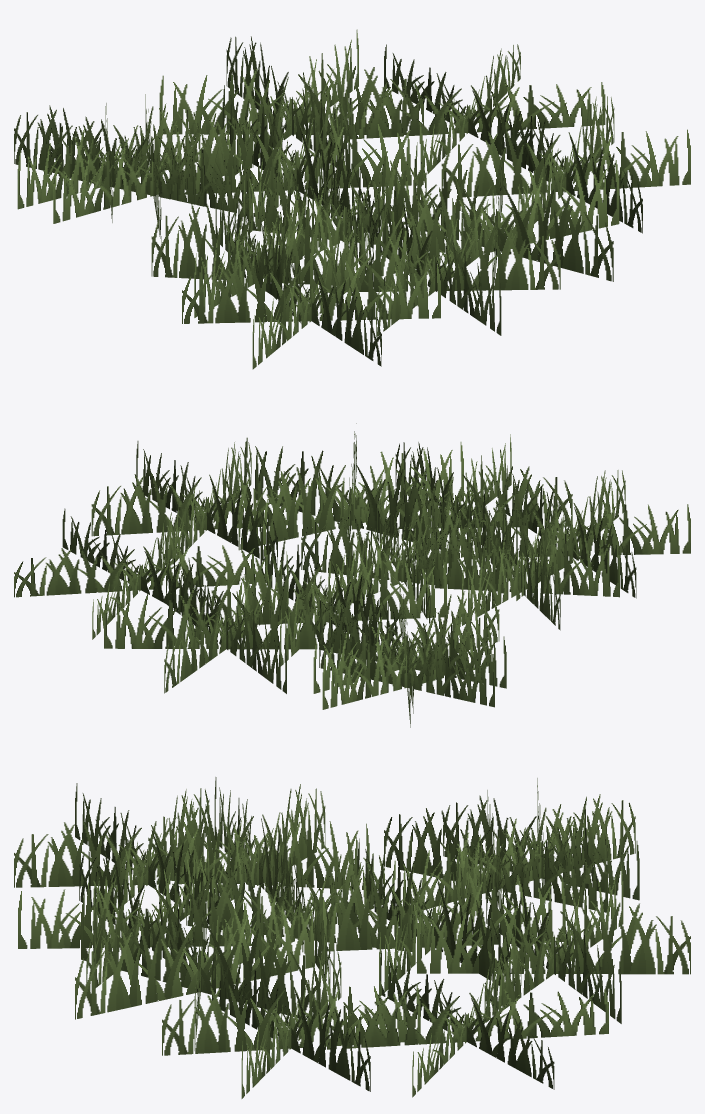
File: grass-healthy-protected.glb
3 renders of one model, top to bottom at view 1: azimuth 30°, elevation 25°; view 2: azimuth 150°, elevation 25°; view 3: azimuth 270°, elevation 25°, orthographic. The views are drawn at different scales.
Visible parts, largest first — view 1: grass-healthy-protected-blades; view 2: grass-healthy-protected-blades; view 3: grass-healthy-protected-blades.
Part boxes in pixels (x1,y1,x2,y2): grass-healthy-protected-blades: [14, 29, 690, 369]; grass-healthy-protected-blades: [14, 423, 690, 727]; grass-healthy-protected-blades: [14, 777, 690, 1098].
Bounding box in the file's own units: 1.22 × 0.1751 × 1.3.
1 material, 1 textured.
